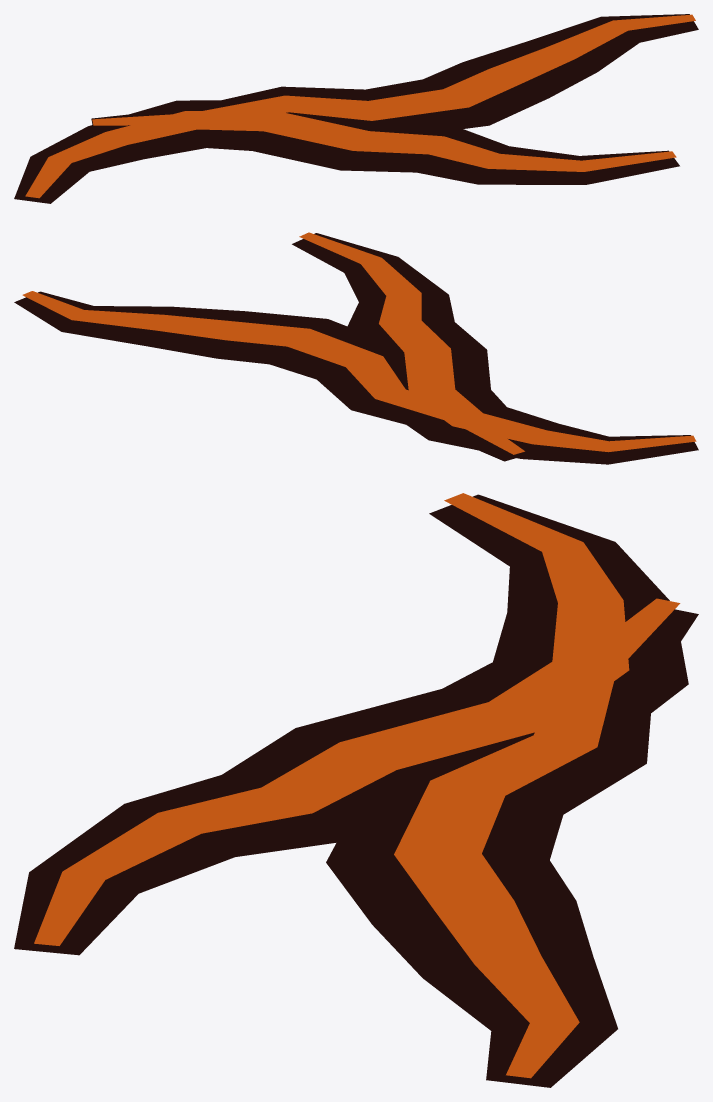
File: MODULE_LAVA_FULL_CRACKS.fbx
The picture shows the model from 3 angles, top to bottom: view 1: azimuth 30°, elevation 25°; view 2: azimuth 150°, elevation 25°; view 3: azimuth 270°, elevation 25°; orthographic projection. The views are drawn at different scales.
Parts seen in each view (by area): view 1: MODULE_LAVA_FULL_CRACKS_DECOR__export; view 2: MODULE_LAVA_FULL_CRACKS_DECOR__export; view 3: MODULE_LAVA_FULL_CRACKS_DECOR__export.
Boxes of the visible parts, <box> form: MODULE_LAVA_FULL_CRACKS_DECOR__export: <box>14,14,698,203</box>; MODULE_LAVA_FULL_CRACKS_DECOR__export: <box>14,232,698,464</box>; MODULE_LAVA_FULL_CRACKS_DECOR__export: <box>14,493,698,1087</box>.
Size of what is drawn, in the model's own units: 35.12 by 0.2 by 17.13.
